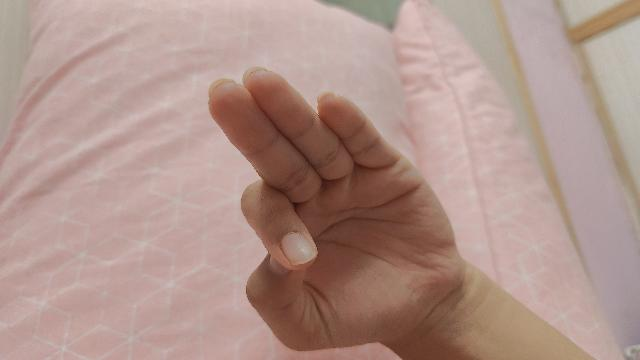aral: (206, 68, 596, 360)
